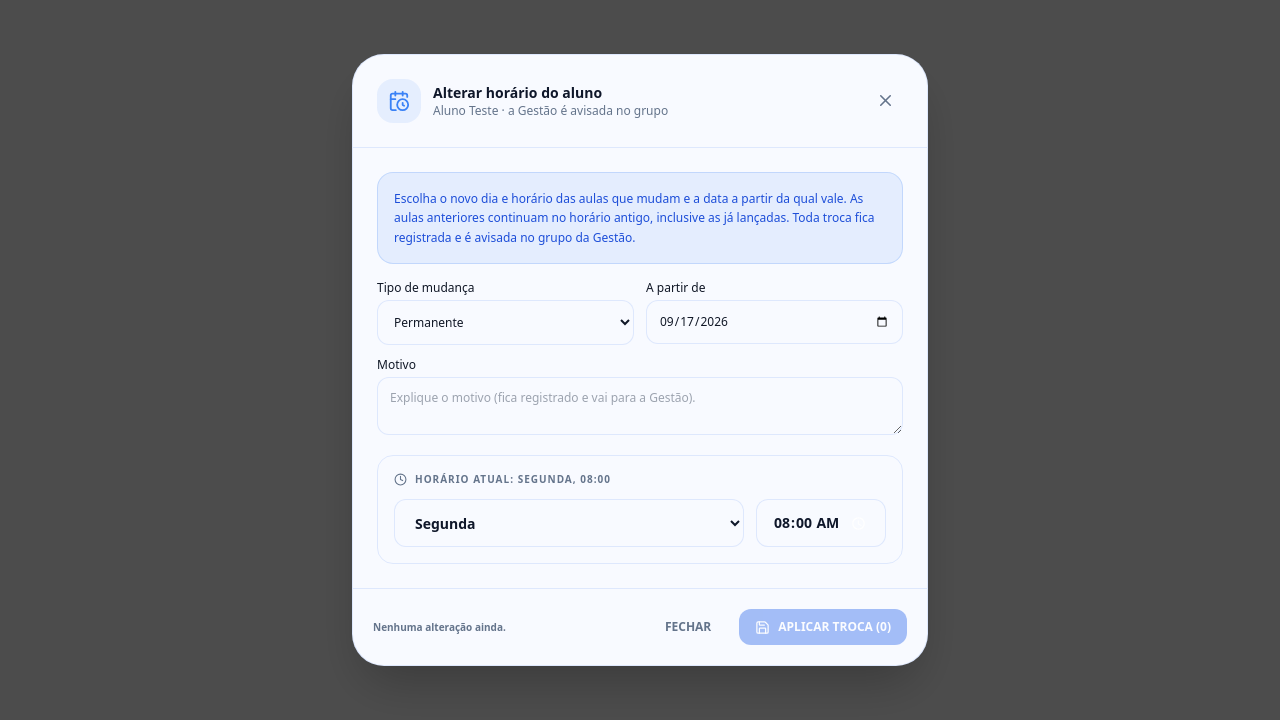
Test case: professor altera o horário do próprio aluno › troca de uma aula só continua como solicitação à escola
Check: the dropdown named "Dia proposto para Segunda 08:00" is shown, box [394,499,744,547]
Select "Somente uma aula" in the dropdown labelled "Tipo de mudança": (506, 323) [377,300,634,345]
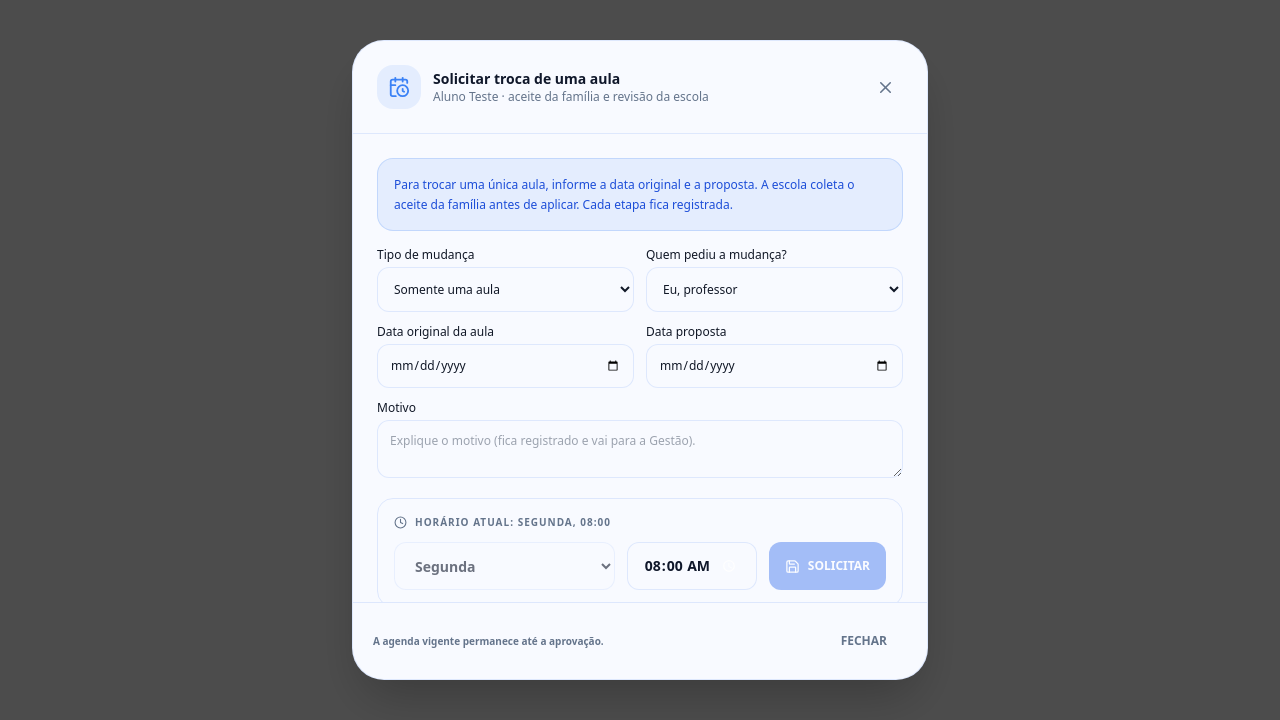
Check: the button "Solicitar" is shown, box [769,542,886,590]
Check: the button "Aplicar troca" is gone
